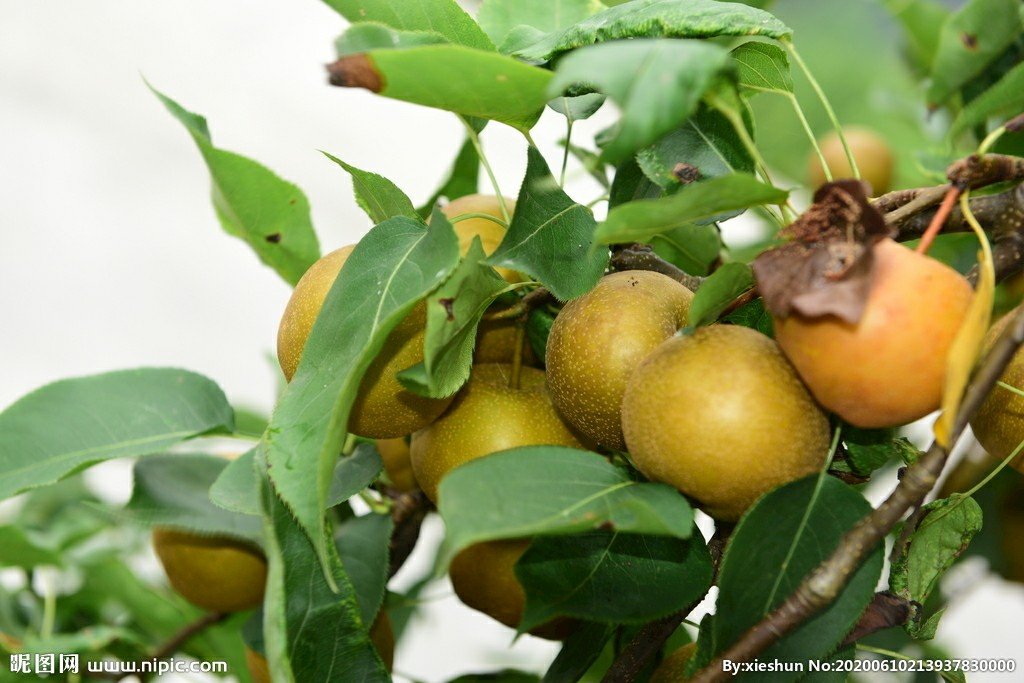pear: (621, 321, 829, 516), (776, 237, 980, 429), (275, 242, 459, 437), (544, 270, 706, 453), (409, 361, 580, 518), (416, 191, 560, 358), (149, 461, 290, 611)
